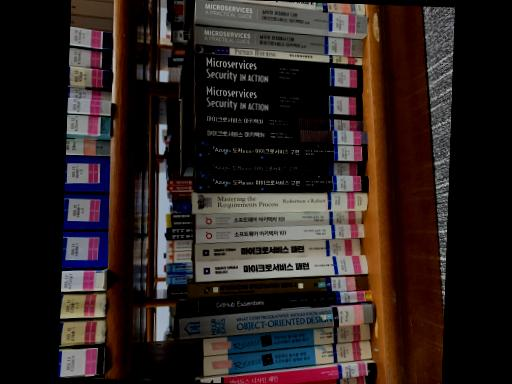book-spine: (174, 301, 375, 339), (195, 51, 363, 91), (196, 81, 362, 117), (203, 339, 371, 374), (195, 0, 367, 33), (203, 322, 371, 354), (195, 24, 361, 55), (194, 254, 368, 281), (187, 274, 369, 297), (195, 361, 376, 384), (198, 289, 371, 312), (195, 237, 360, 260), (191, 191, 368, 211), (196, 111, 363, 131), (196, 141, 368, 160), (195, 223, 364, 242), (196, 172, 368, 190), (196, 125, 367, 143), (196, 45, 362, 63), (195, 157, 364, 174), (195, 210, 362, 227), (240, 0, 366, 14), (277, 375, 372, 384)
